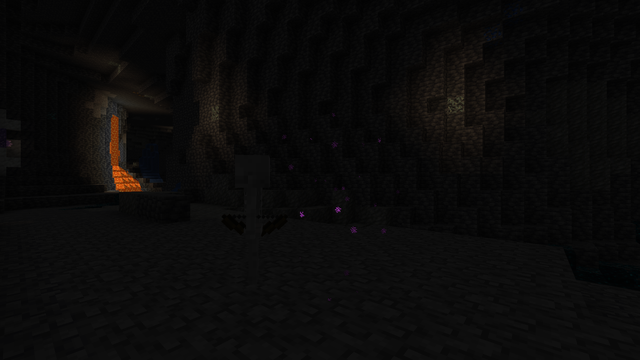squelettes: (226, 154, 279, 290)
